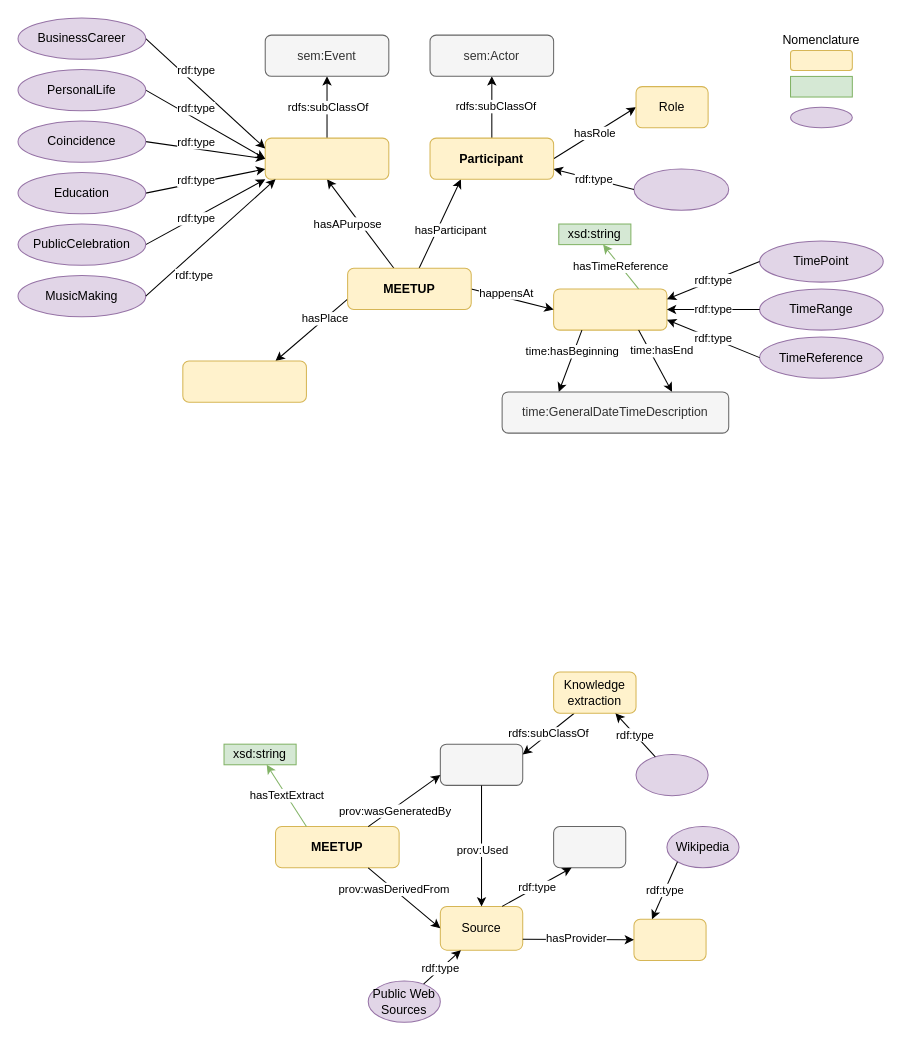
Image size: 901x1040. Some labels were removed from this diagram. The centre of each missing label's shape, as x and y in pixels:
"Algorithm" goes at (x=671, y=774).
"Class" goes at (x=820, y=60).
"Datatype" goes at (x=820, y=86).
"instance" goes at (x=820, y=117).
"Place" goes at (x=244, y=381).
"prov:Activity" goes at (x=481, y=764).
"prov:Entitiy" goes at (x=589, y=847).
"Provider" goes at (x=669, y=939).
"Purpose" goes at (x=326, y=158).
"Subject" goes at (x=681, y=189).
"TimeExpression" goes at (x=610, y=309).
